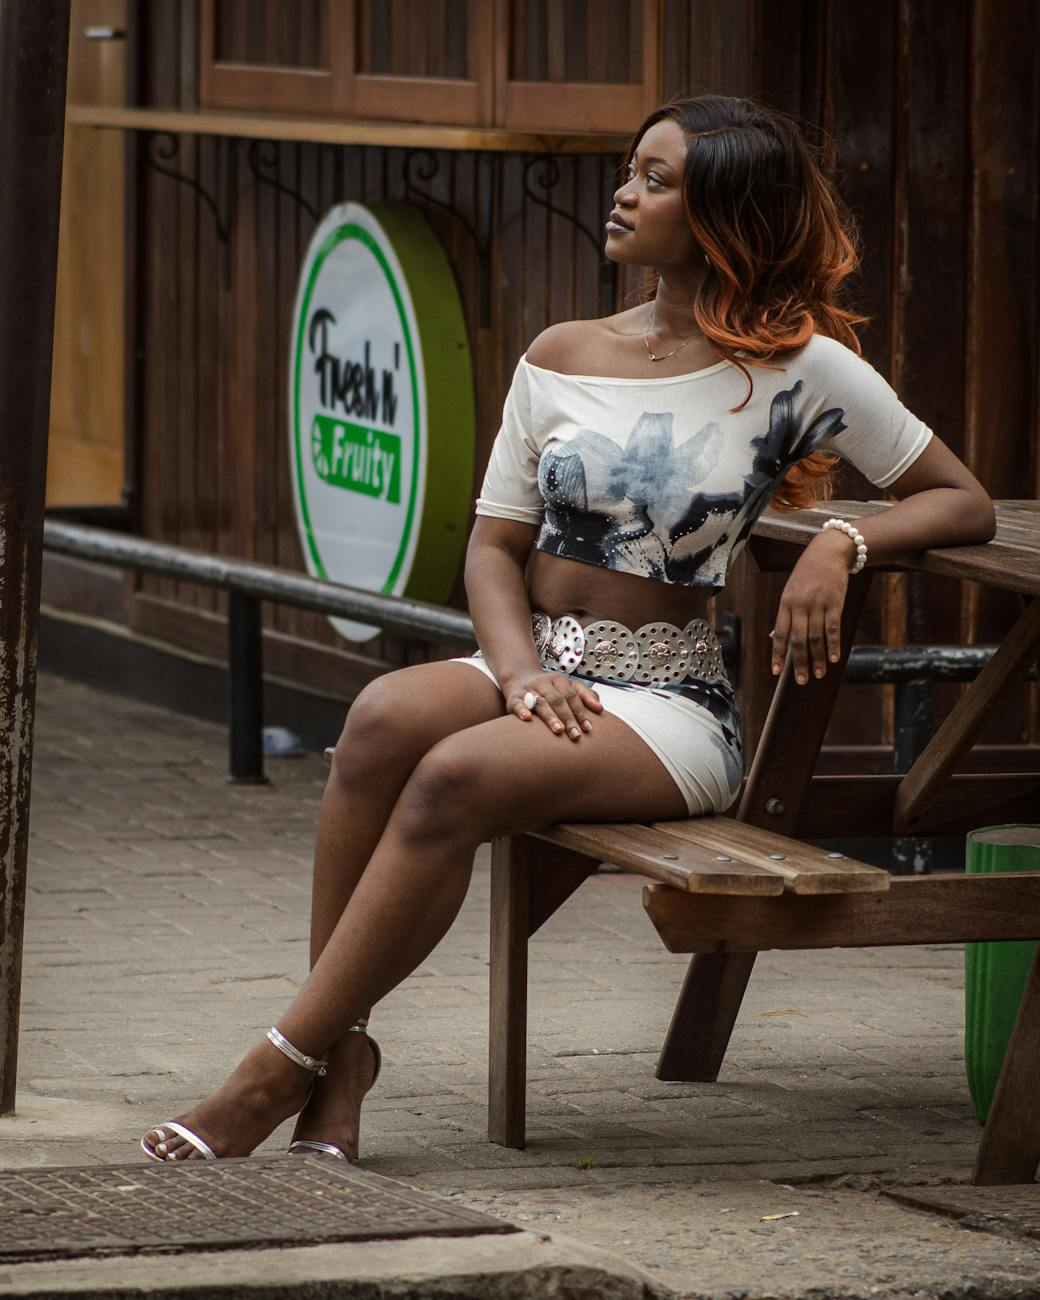crop_top: (466, 322, 861, 589)
opened_foot: (135, 1018, 333, 1169), (278, 1015, 398, 1184)
short_medium_skirt: (438, 636, 755, 811)
